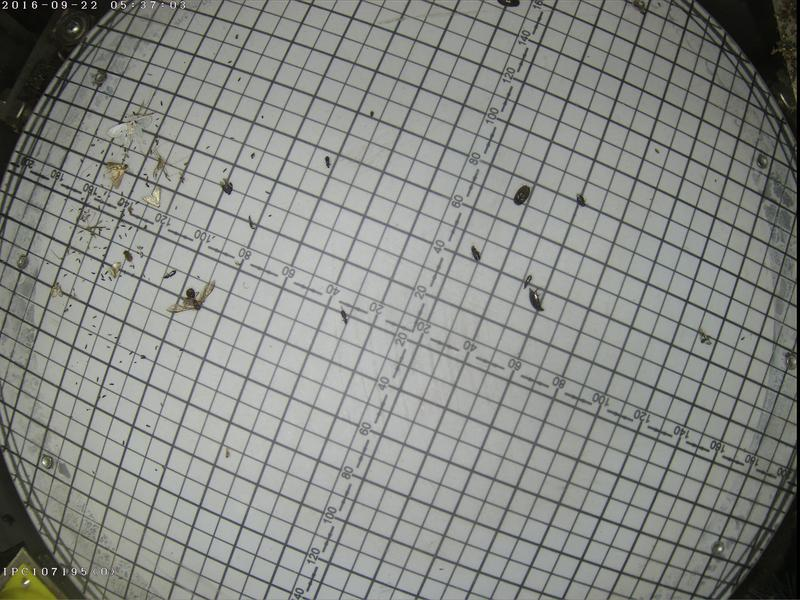Rice Leaf Roller: (141, 184, 161, 207)
